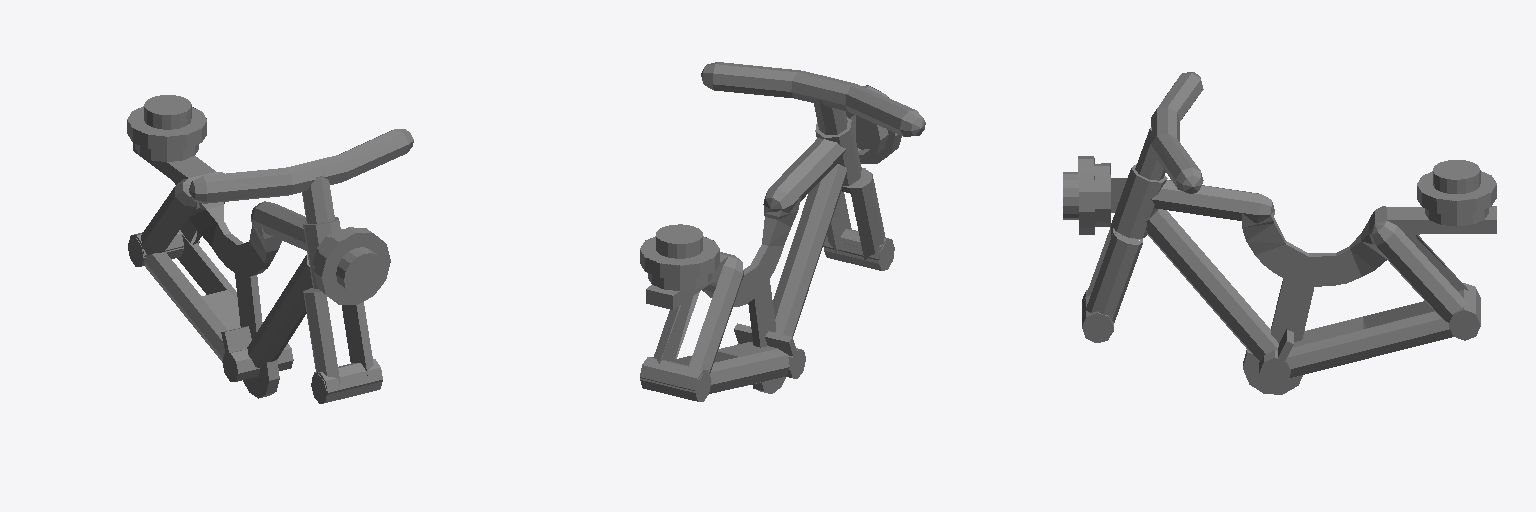
File: bici.obj
The picture shows the model from 3 angles: view 1: azimuth 30°, elevation 25°; view 2: azimuth 150°, elevation 25°; view 3: azimuth 270°, elevation 25°; orthographic projection.
Parts seen in each view (by area): view 1: LEGOISLANDBIKE; view 2: LEGOISLANDBIKE; view 3: LEGOISLANDBIKE.
Boxes of the visible parts, x1=… form: LEGOISLANDBIKE: x1=127, y1=95, x2=413, y2=403; LEGOISLANDBIKE: x1=640, y1=62, x2=925, y2=401; LEGOISLANDBIKE: x1=1063, y1=72, x2=1496, y2=394.
Size of the model in its own units: 1.39 by 1.64 by 2.37.